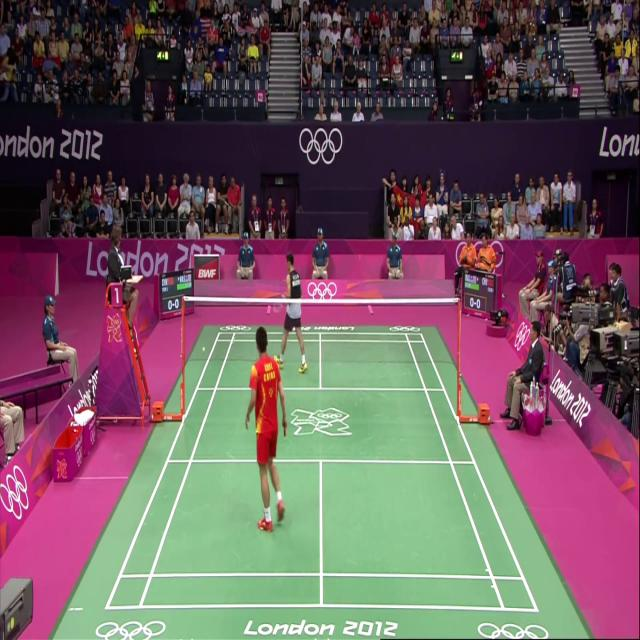Net: (180, 294, 461, 369)
Player1: (244, 328, 318, 544)
Player2: (273, 257, 313, 375)
Shuttlecock: (198, 340, 208, 360)
